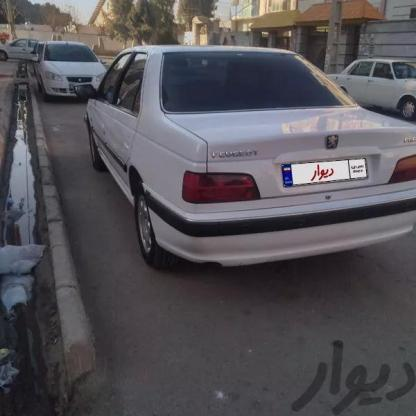Car: (82, 21, 416, 299), (17, 38, 117, 102), (324, 58, 416, 121), (0, 33, 52, 64)
